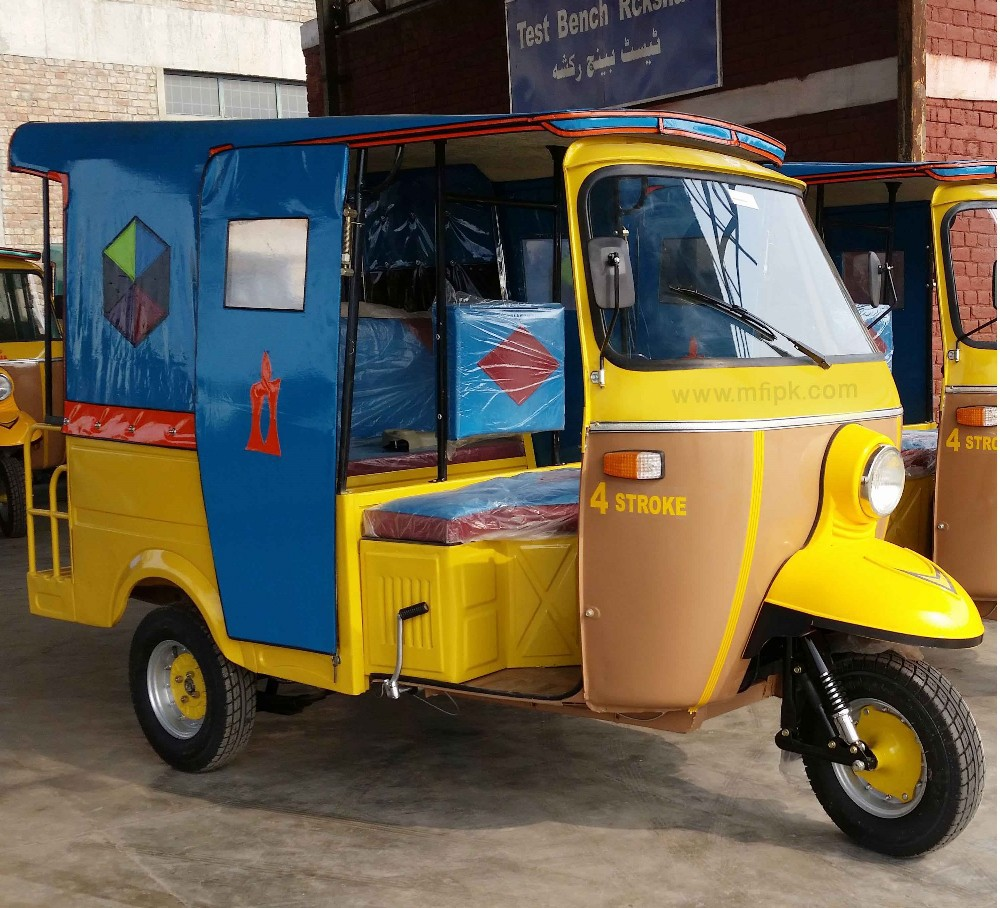auto: (7, 113, 985, 868)
